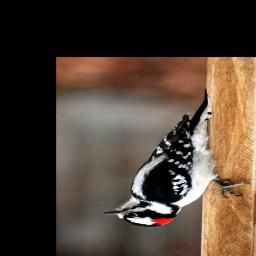Woodpecker: (103, 90, 250, 227)
